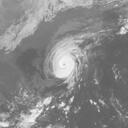cyclone: (45, 37, 84, 81)
